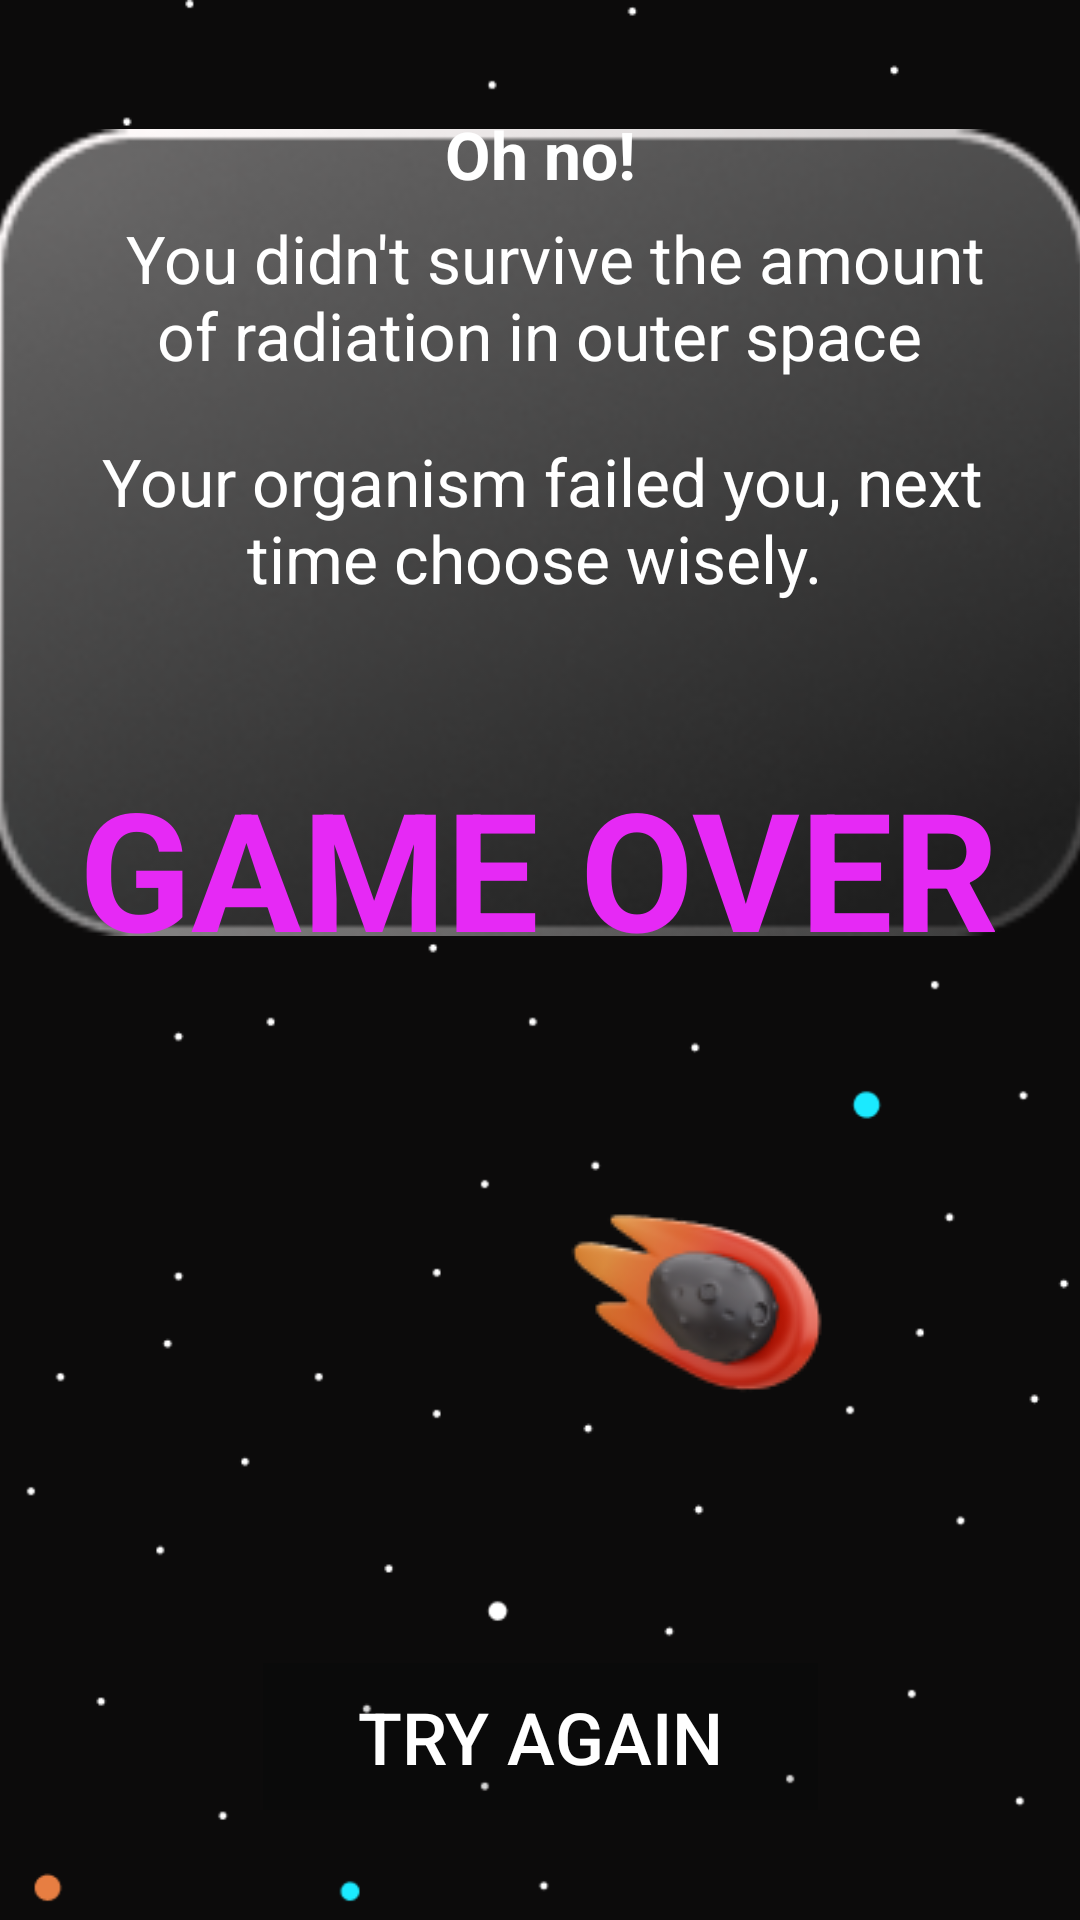

Icons on this 1080 × 1920 Android screen, each with the point to tap as (x,y):
comet: (713,1297)
